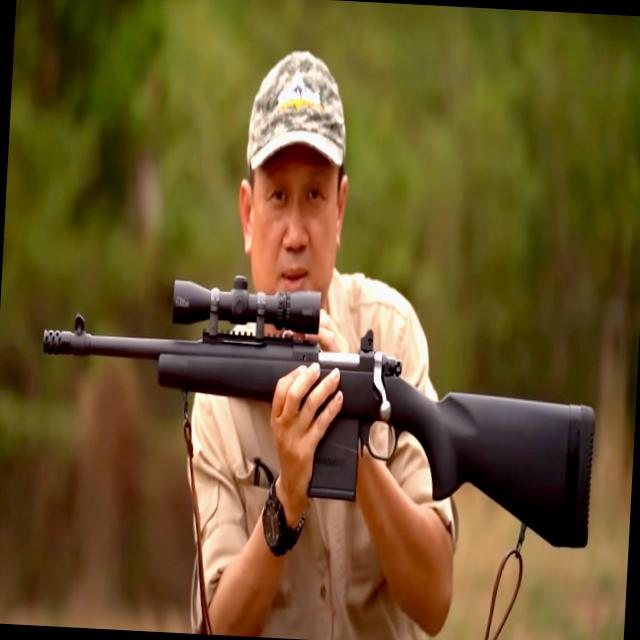rifle: (25, 255, 612, 557)
